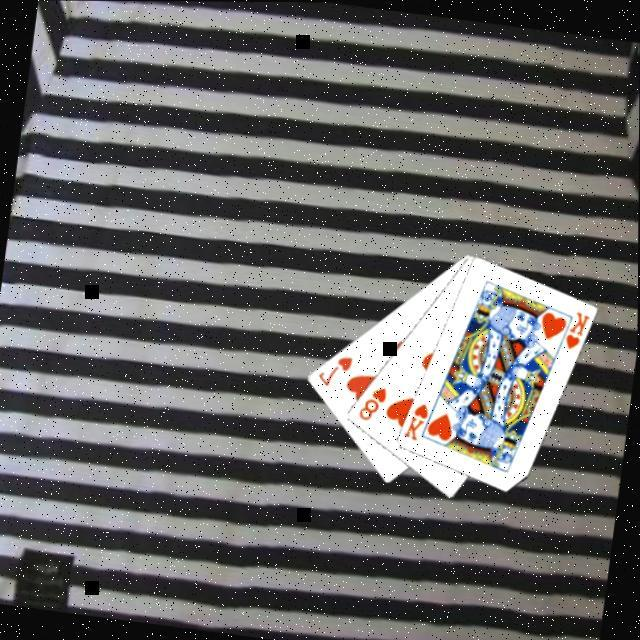7H: (314, 347, 356, 389)
8H: (355, 379, 391, 423)
KH: (401, 395, 432, 442), (561, 304, 592, 351)
